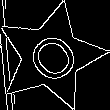O_SE: (17, 23, 85, 90)
